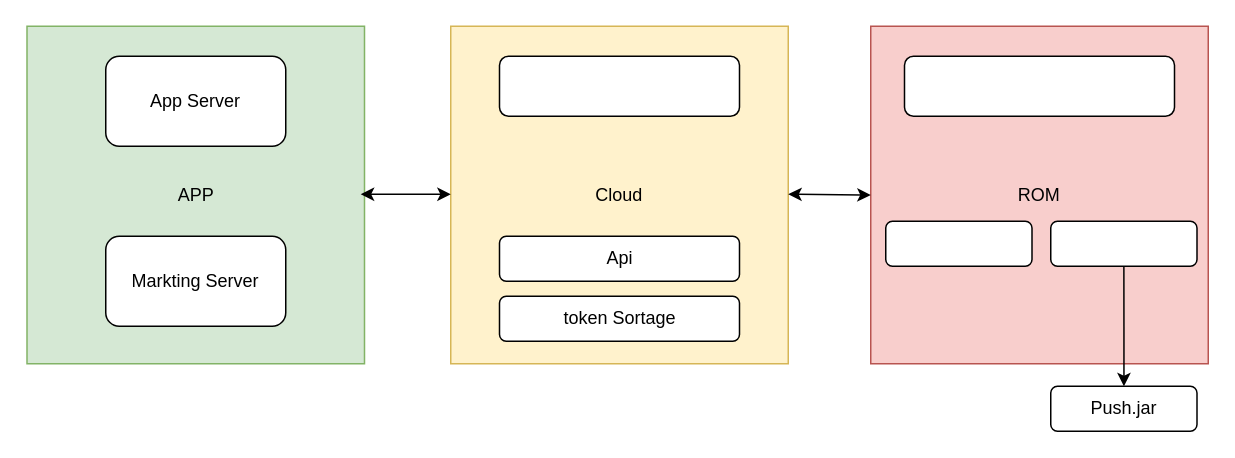
Image size: 1235x458. Some labels were removed from this diagram. Here are the shapes that lost their labels. From the top down, the centre of each, then its label:
At point 619,85: "Push Server".
At point 1038,85: "Push Client".
At point 958,243: "AMS".
At point 1123,243: "Push Service".
